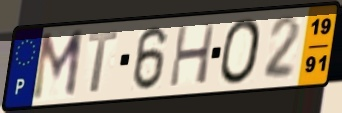2: (261, 14, 303, 81)
6: (129, 24, 171, 93)
H: (167, 21, 218, 89)
M: (29, 27, 86, 104)
O: (218, 16, 264, 87)
T: (86, 29, 120, 95)
